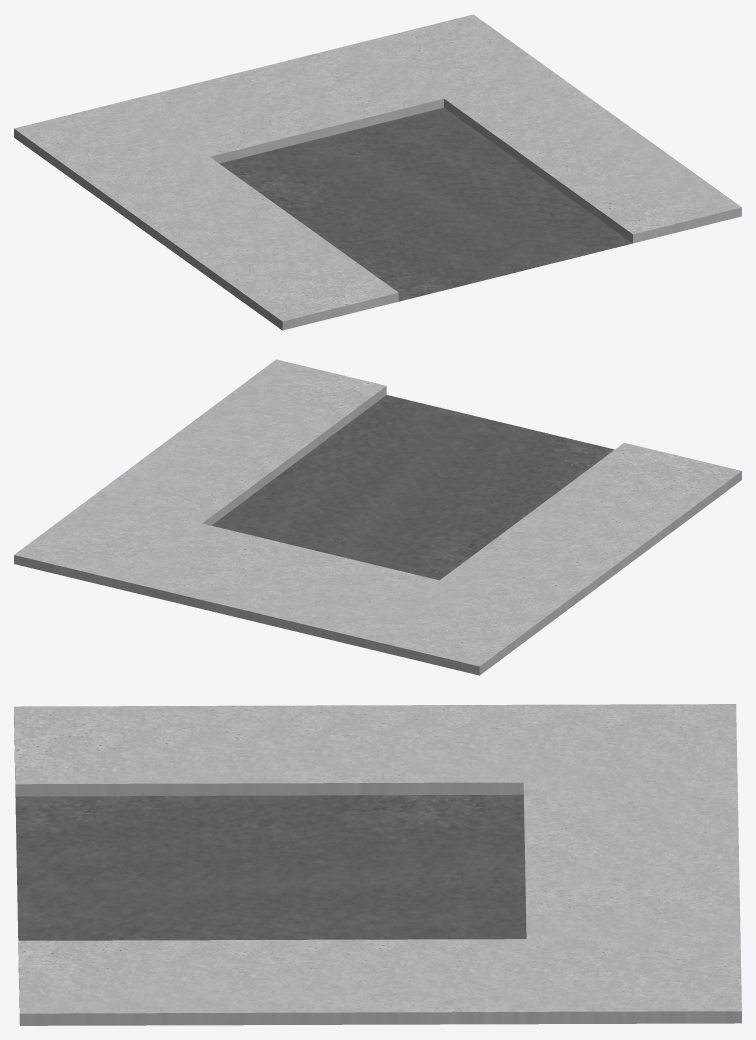
File: RoadDeadEnd.fbx
3 views of the same model, one above another, from view 1: azimuth 30°, elevation 25°; view 2: azimuth 150°, elevation 25°; view 3: azimuth 270°, elevation 25° (orthographic). The views are drawn at different scales.
Parts seen in each view (by area): view 1: pCube9; view 2: pCube9; view 3: pCube9.
Boxes of the visible parts, x1=… form: pCube9: x1=14, y1=14, x2=741, y2=330; pCube9: x1=14, y1=359, x2=741, y2=675; pCube9: x1=14, y1=704, x2=741, y2=1025.
Size of the model in its own units: 24.42 by 0.4522 by 24.27.
2 materials, 2 textured.
